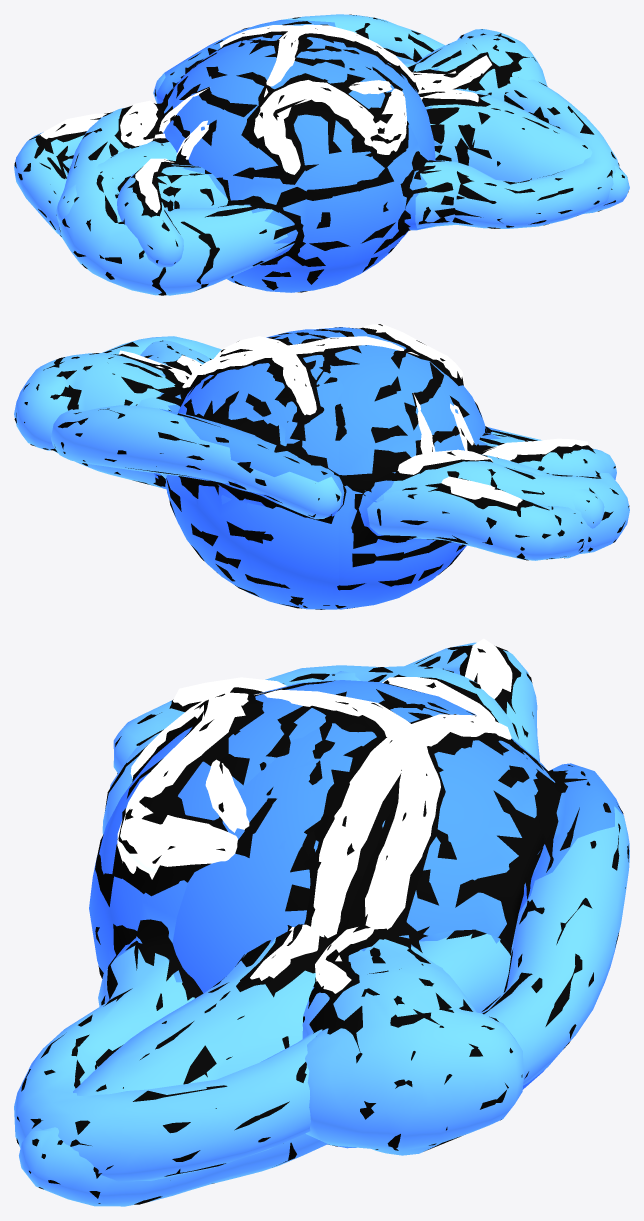
The model's file is wobbley.glb.
3 renders of one model, top to bottom at view 1: azimuth 30°, elevation 25°; view 2: azimuth 150°, elevation 25°; view 3: azimuth 270°, elevation 25°, orthographic. The views are drawn at different scales.
Parts seen in each view (by area): view 1: wobbley_303, wobbley_303_outline, wobbley_246, wobbley_284, wobbley_265, wobbley_246_outline, wobbley_265_outline, wobbley_284_outline; view 2: wobbley_265, wobbley_303, wobbley_246, wobbley_265_outline, wobbley_303_outline, wobbley_246_outline, wobbley_284; view 3: wobbley_246, wobbley_303, wobbley_265, wobbley_284, wobbley_265_outline, wobbley_303_outline, wobbley_246_outline, wobbley_284_outline.
Part boxes in pixels (bbox=[...]): wobbley_303: bbox=[58, 43, 619, 295]; wobbley_303_outline: bbox=[59, 42, 619, 295]; wobbley_246: bbox=[117, 24, 547, 267]; wobbley_284: bbox=[56, 80, 629, 223]; wobbley_265: bbox=[14, 14, 444, 237]; wobbley_246_outline: bbox=[123, 29, 536, 263]; wobbley_265_outline: bbox=[14, 14, 434, 236]; wobbley_284_outline: bbox=[56, 84, 628, 215]; wobbley_265: bbox=[51, 331, 589, 609]; wobbley_303: bbox=[102, 324, 629, 609]; wobbley_246: bbox=[14, 329, 616, 609]; wobbley_265_outline: bbox=[55, 336, 584, 609]; wobbley_303_outline: bbox=[103, 324, 629, 608]; wobbley_246_outline: bbox=[14, 332, 615, 608]; wobbley_284: bbox=[140, 326, 604, 528]; wobbley_246: bbox=[113, 677, 550, 1155]; wobbley_303: bbox=[14, 665, 521, 1181]; wobbley_265: bbox=[278, 638, 629, 1148]; wobbley_284: bbox=[19, 671, 360, 1206]; wobbley_265_outline: bbox=[266, 645, 628, 1078]; wobbley_303_outline: bbox=[16, 667, 518, 1176]; wobbley_246_outline: bbox=[115, 687, 543, 1151]; wobbley_284_outline: bbox=[29, 674, 334, 1204].
Size of the model in its own units: 0.9976 by 0.443 by 0.5972.
